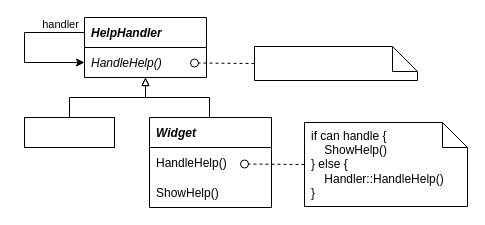
Image size: 485x225. Some labels were removed from this diagram. The shapes that lost their labels are listed below. From the top down, each one's centre as x and y in pixels, then its label:
At point (336, 63): "handler->HandleHelp()".
At point (69, 132): "Application".
